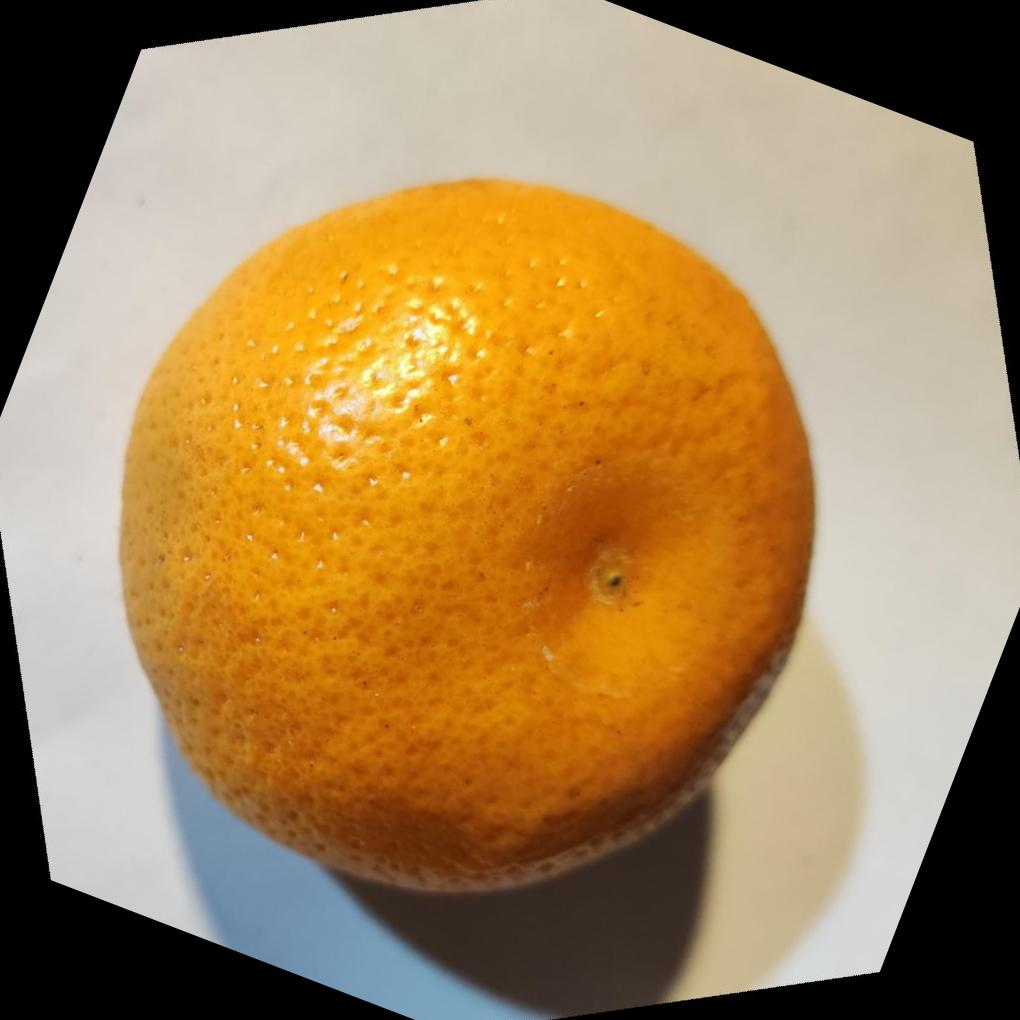FreshGuava: (112, 177, 816, 900)
